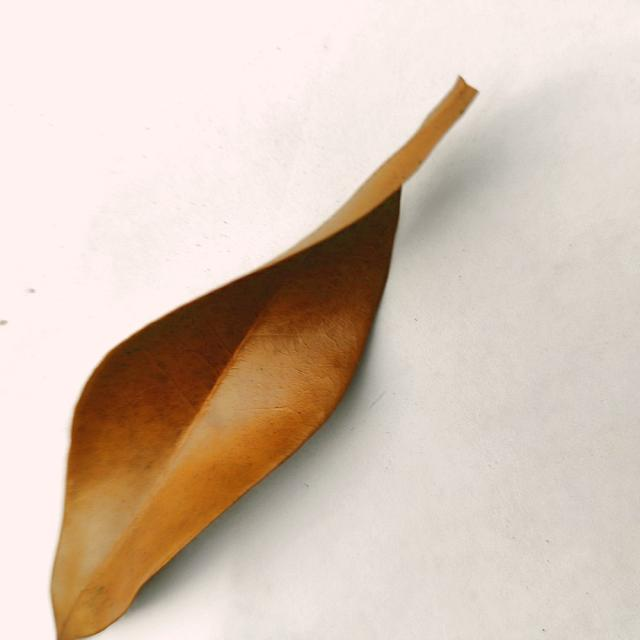Dry_Leaf-Lychee: (49, 80, 477, 639)
